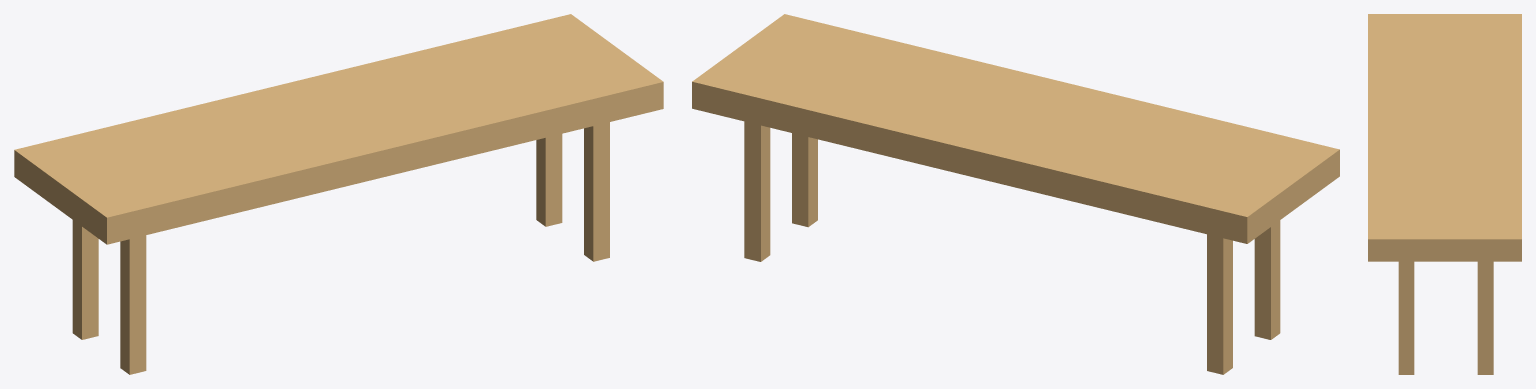
Rendered from LongTable.fbx.
3 views of the same model, side by side, from view 1: azimuth 30°, elevation 25°; view 2: azimuth 150°, elevation 25°; view 3: azimuth 270°, elevation 25° (orthographic). The views are drawn at different scales.
Visible parts, largest first — view 1: Table2_Plane.009; view 2: Table2_Plane.009; view 3: Table2_Plane.009.
Boxes of the visible parts, left/top/right/bottom form: Table2_Plane.009: left=14, top=14, right=663, bottom=374; Table2_Plane.009: left=692, top=14, right=1339, bottom=374; Table2_Plane.009: left=1368, top=14, right=1521, bottom=374.
Size of the model in its own units: 416 by 129 by 120.
